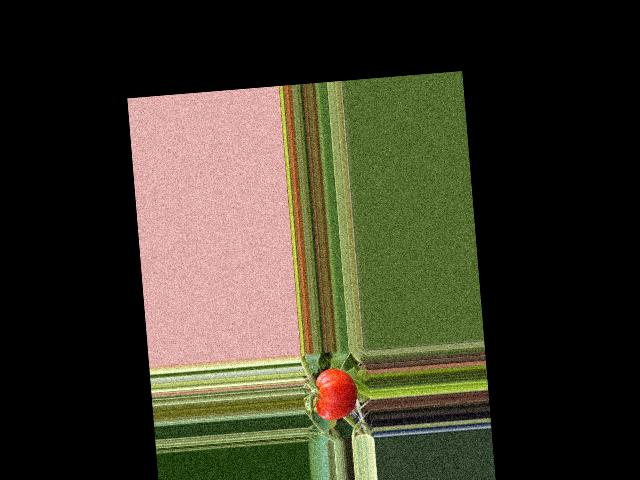tomato: (313, 367, 359, 421)
